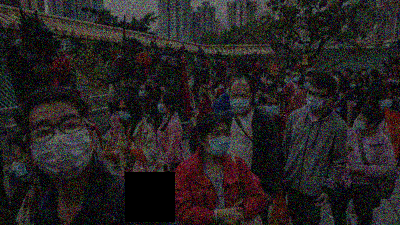mask_weared_incorrect: (219, 84, 224, 89)
with_mask: (28, 112, 92, 181), (205, 127, 231, 157), (11, 153, 35, 182), (228, 91, 251, 113), (306, 89, 327, 111), (378, 95, 393, 110), (264, 99, 278, 115), (117, 105, 131, 121), (355, 115, 367, 130), (156, 99, 166, 114), (303, 78, 312, 90), (254, 93, 262, 105), (138, 87, 146, 97), (292, 73, 300, 82), (349, 82, 357, 89), (276, 85, 283, 93), (392, 77, 399, 83), (267, 78, 272, 84)
